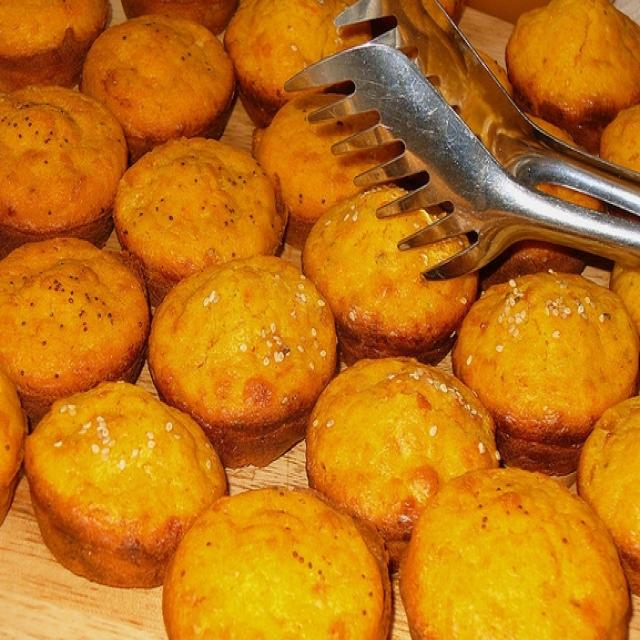炸货点心: (5, 5, 638, 631)
面包点心: (5, 5, 638, 631)
